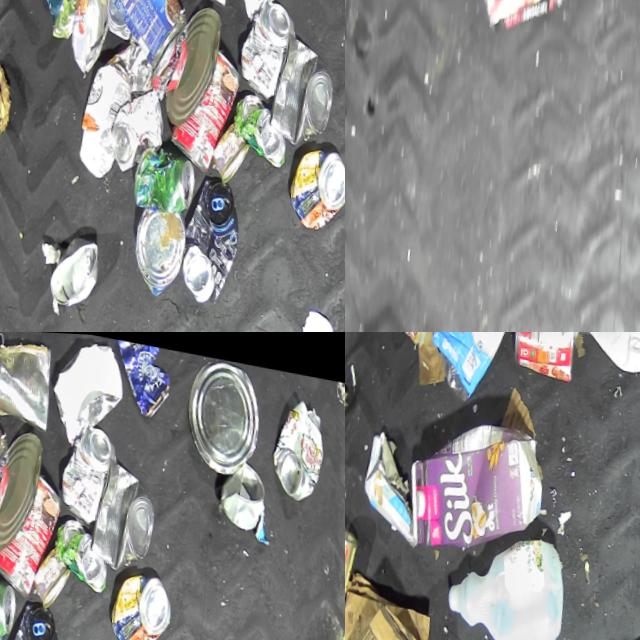can: (176, 349, 272, 479), (158, 38, 247, 175), (167, 172, 245, 307), (259, 26, 341, 148), (80, 451, 162, 573), (0, 462, 67, 599), (155, 0, 226, 128), (51, 418, 122, 525), (263, 390, 332, 500), (101, 0, 199, 73), (230, 0, 300, 99), (102, 80, 170, 178), (120, 203, 187, 300), (0, 422, 47, 553), (279, 139, 345, 232), (108, 336, 177, 420), (0, 332, 58, 430), (100, 564, 174, 640), (127, 142, 198, 217), (225, 87, 290, 167), (46, 512, 111, 592), (38, 232, 100, 315), (499, 332, 582, 390), (213, 453, 269, 526), (63, 0, 115, 76), (204, 116, 252, 184), (25, 541, 73, 609), (0, 597, 65, 640), (0, 359, 20, 498), (100, 0, 137, 40), (0, 566, 19, 640)
